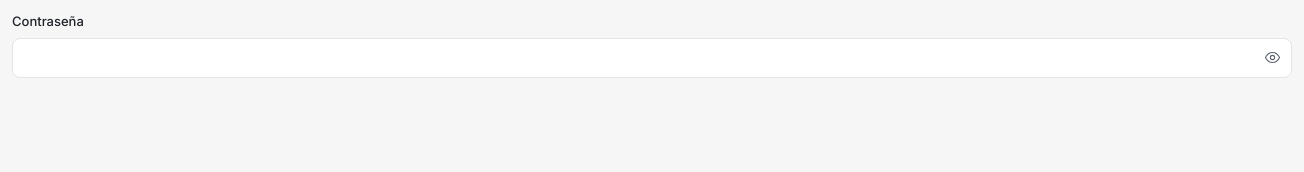
PasswordInput › oculta lo escrito y permite mostrarlo y volver a ocultarlo
This screenshot has width=1304, height=172.
In the password field labelled "Contraseña": (652, 58) [12, 38, 1292, 78], type "Clave123"
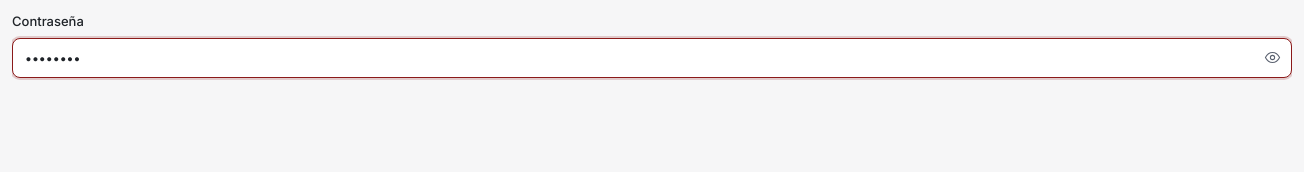
Click the button named "Mostrar caracteres": click(1272, 58) [1256, 42, 1288, 74]
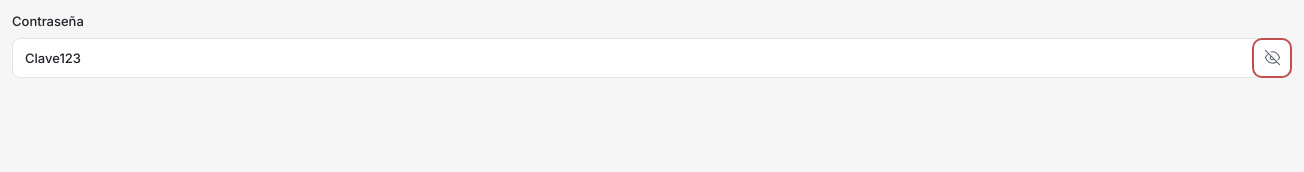
Check: the field labelled "Contraseña" shows its text, box [12, 38, 1292, 78]
Click the button named "Ocultar caracteres": click(1272, 58) [1256, 42, 1288, 74]
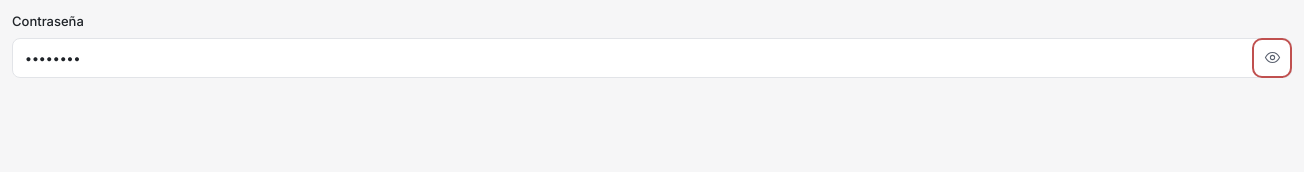
Check: the password field labelled "Contraseña" hides its text, box [12, 38, 1292, 78]
